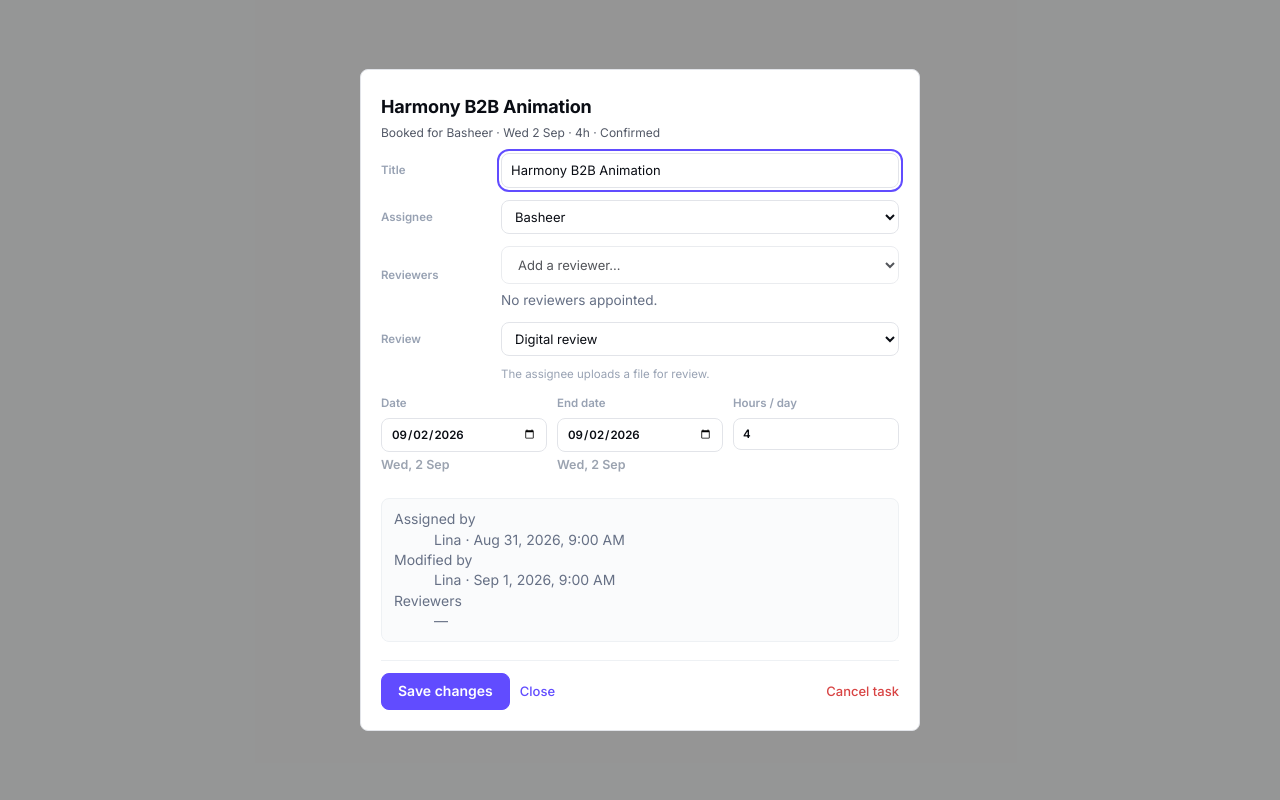
EditBookingDialog — cancelling asks first (ADR-0068) › changes nothing when dismissed, and the edit dialog stays open
Step 1. Click the button with test id "edit-cancel-task" → coordinates (863, 692), box [826,684,899,700]
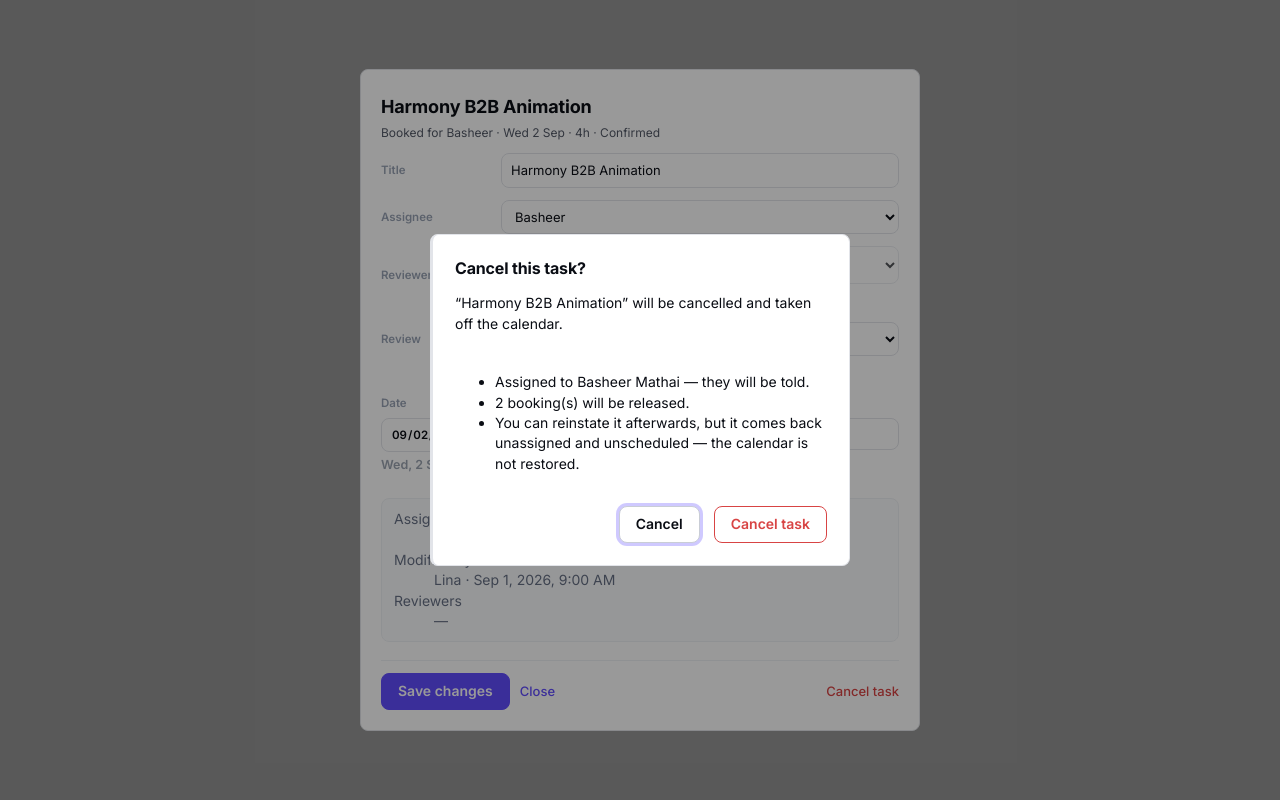
Step 2. Click the button with test id "edit-cancel-confirm-cancel" → coordinates (659, 524), box [619,506,700,543]
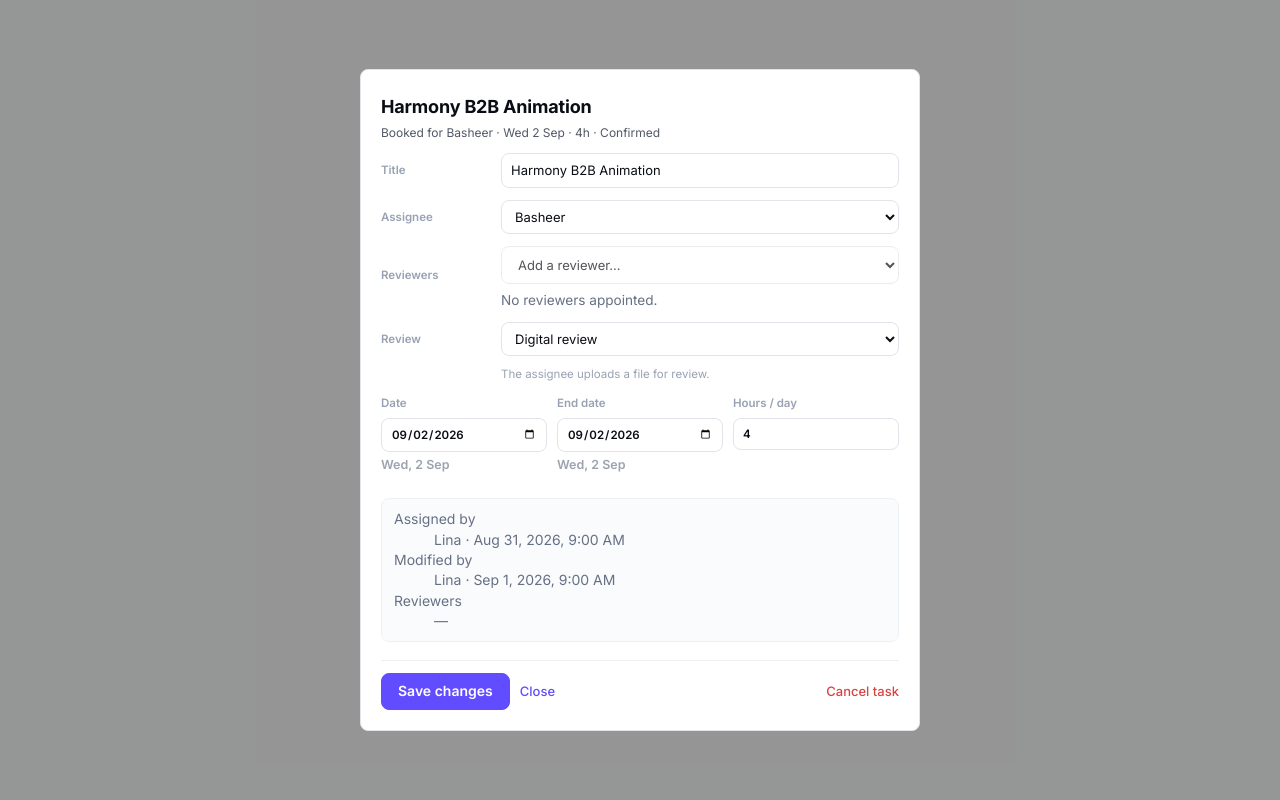
Check: the dialog with test id "edit-dialog" is shown, box [360,69,920,731]
Check: the dialog with test id "edit-cancel-confirm-dialog" is gone
